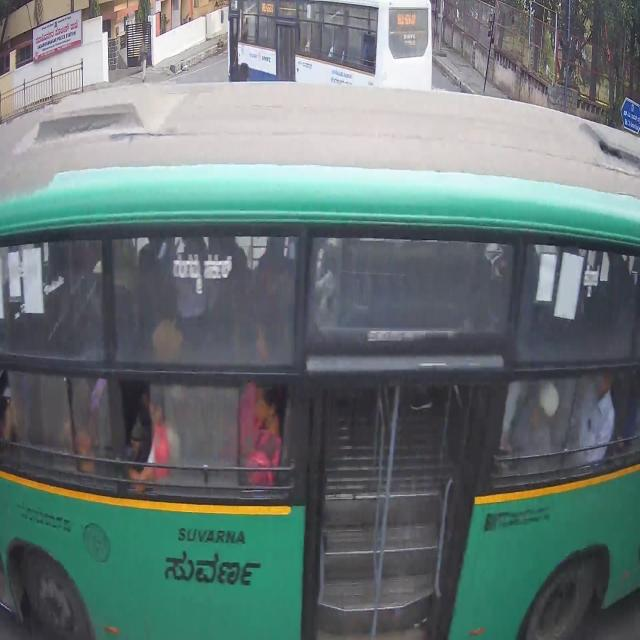Bus: (27, 210, 640, 617), (223, 0, 457, 93)
